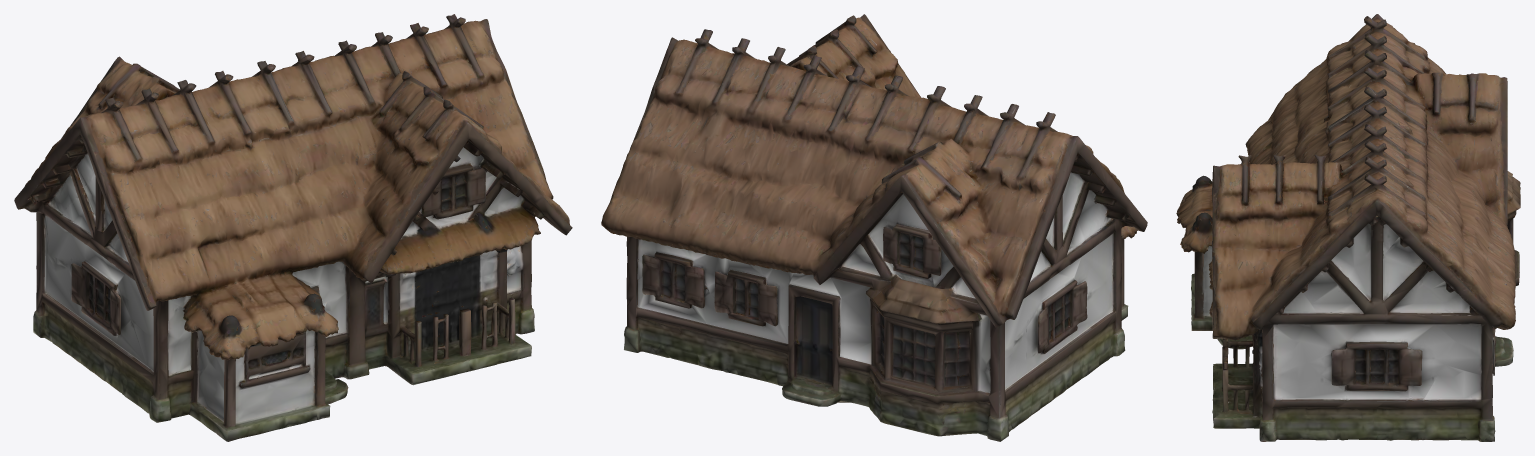
The model's file is house-3-opt.glb.
The picture shows the model from 3 angles, left to right: view 1: azimuth 30°, elevation 25°; view 2: azimuth 150°, elevation 25°; view 3: azimuth 270°, elevation 25°; orthographic projection. The views are drawn at different scales.
Parts seen in each view (by area): view 1: Mesh_0; view 2: Mesh_0; view 3: Mesh_0.
Boxes of the visible parts, bbox=[...] form: Mesh_0: bbox=[14, 14, 572, 441]; Mesh_0: bbox=[601, 14, 1147, 441]; Mesh_0: bbox=[1176, 14, 1520, 441].
Bounding box in the file's own units: 1.91 × 1.23 × 1.48.
1 material, 1 textured.
